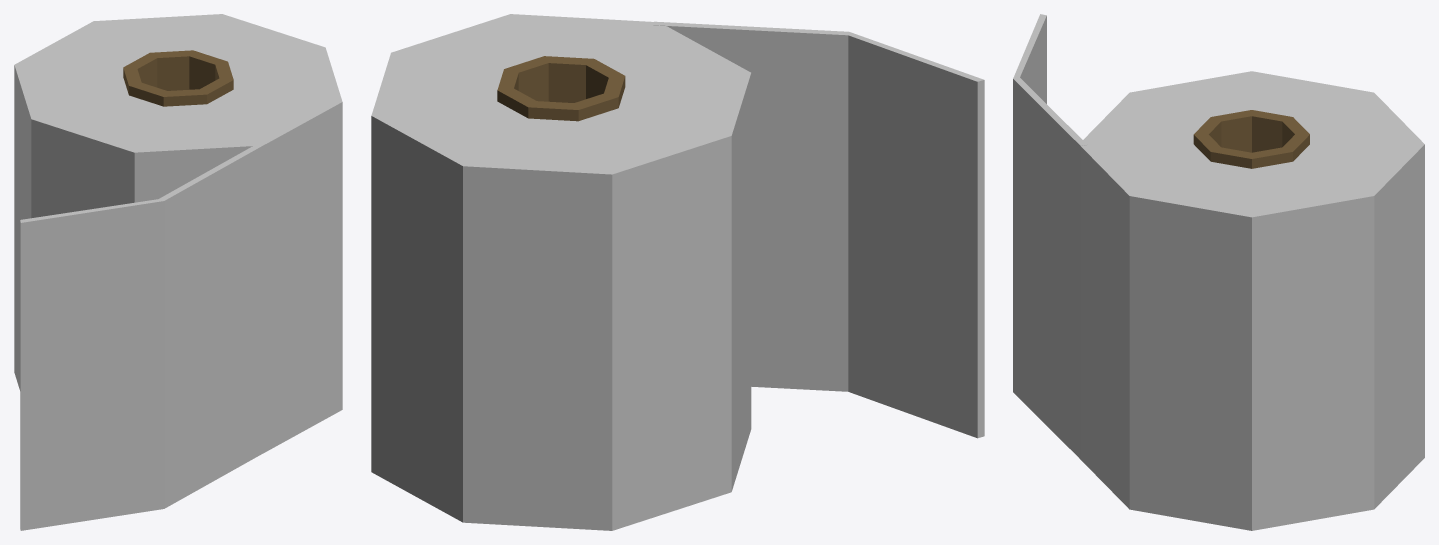
The model's file is Toilet paper.fbx.
The picture shows the model from 3 angles, left to right: view 1: azimuth 30°, elevation 25°; view 2: azimuth 150°, elevation 25°; view 3: azimuth 270°, elevation 25°; orthographic projection. The views are drawn at different scales.
Parts seen in each view (by area): view 1: pCylinder2; view 2: pCylinder2; view 3: pCylinder2.
Boxes of the visible parts, x1,y1,x2,y2 form: pCylinder2: (14,14,342,530); pCylinder2: (371,14,984,530); pCylinder2: (1013,14,1424,530).
Bounding box in the file's own units: 0.0448 × 0.0341 × 0.0384.
